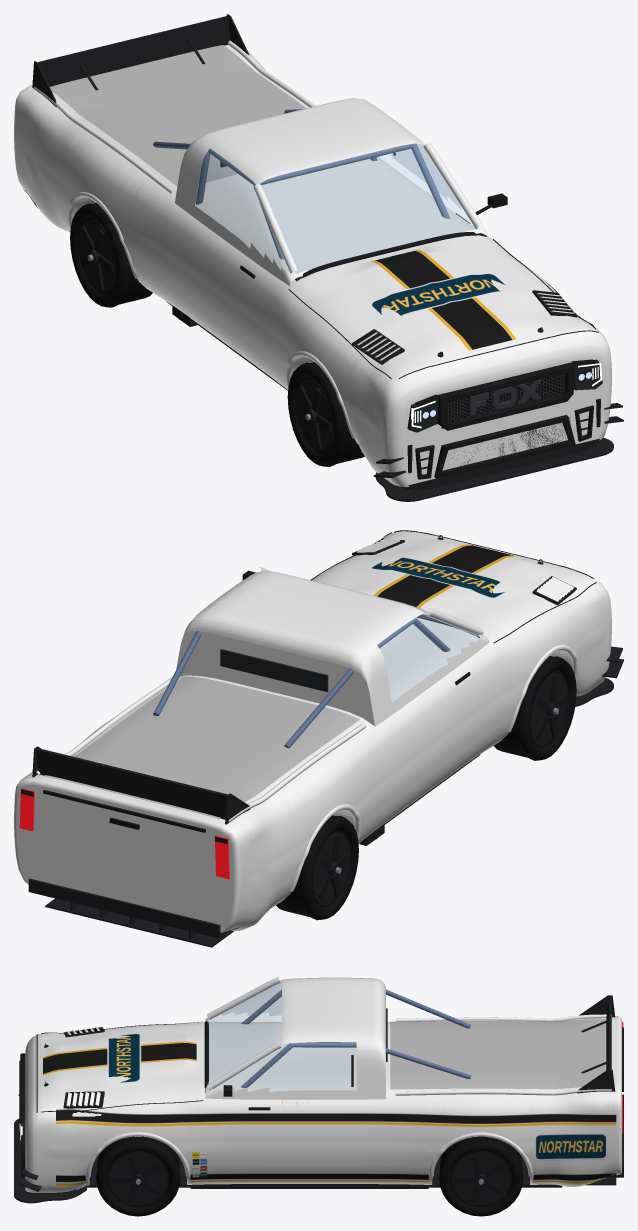
File: truck_pace.glb
3 views of the same model, one above another, from view 1: azimuth 30°, elevation 25°; view 2: azimuth 150°, elevation 25°; view 3: azimuth 270°, elevation 25° (orthographic). The views are drawn at different scales.
Visible parts, largest first — view 1: Body, Cab, BedFloor, FOX_Race_Truck, SpoilerBlade, Wheel_RR, Wheel_FR, GrilleSurround, Splitter, LowerIntakeSurround, APillar (×2), FrontValance (+4 smaller); view 2: Body, Cab, BedFloor, Wheel_FR, Wheel_RR, FOX_Race_Truck, SpoilerBlade, RearBumper, RearWindow, DiffuserPlate, BedRail (×2), FenderLip (×2) (+2 smaller); view 3: Body, Cab, FOX_Race_Truck, BedFloor, Wheel_FL, Wheel_RL, BedRail (×2), FenderLip (×2), SideSkirt, Splitter, APillar (×2), CageRearStay (×2) (+6 smaller).
Boxes of the visible parts, bbox=[...] form: Body: bbox=[14, 45, 611, 490]; Cab: bbox=[175, 98, 487, 285]; BedFloor: bbox=[50, 45, 305, 185]; FOX_Race_Truck: bbox=[23, 189, 593, 452]; SpoilerBlade: bbox=[37, 16, 229, 86]; Wheel_RR: bbox=[70, 203, 152, 307]; Wheel_FR: bbox=[287, 362, 364, 466]; GrilleSurround: bbox=[437, 362, 574, 430]; Splitter: bbox=[375, 438, 613, 501]; LowerIntakeSurround: bbox=[434, 415, 575, 478]; APillar (×2): bbox=[253, 142, 482, 273]; FrontValance: bbox=[408, 438, 599, 490]; Body: bbox=[14, 531, 611, 932]; Cab: bbox=[176, 571, 489, 726]; BedFloor: bbox=[44, 676, 359, 819]; Wheel_FR: bbox=[493, 656, 576, 760]; Wheel_RR: bbox=[276, 815, 358, 920]; FOX_Race_Truck: bbox=[226, 539, 515, 931]; SpoilerBlade: bbox=[36, 748, 227, 819]; RearBumper: bbox=[28, 878, 225, 938]; RearWindow: bbox=[220, 649, 328, 691]; DiffuserPlate: bbox=[45, 898, 234, 947]; BedRail (×2): bbox=[36, 677, 366, 822]; FenderLip (×2): bbox=[290, 644, 578, 891]; Body: bbox=[25, 1016, 621, 1193]; Cab: bbox=[205, 977, 385, 1099]; FOX_Race_Truck: bbox=[43, 1033, 616, 1185]; BedFloor: bbox=[390, 1019, 611, 1089]; Wheel_FL: bbox=[96, 1136, 180, 1216]; Wheel_RL: bbox=[439, 1136, 523, 1216]; BedRail (×2): bbox=[395, 1014, 611, 1095]; FenderLip (×2): bbox=[86, 1132, 533, 1177]; SideSkirt: bbox=[190, 1184, 428, 1188]; Splitter: bbox=[14, 1119, 86, 1203]; APillar (×2): bbox=[207, 976, 280, 1090]; CageRearStay (×2): bbox=[386, 989, 471, 1078].
Size of the model in its own units: 2.1 by 1.67 by 5.53.
Materials: 23 (5 with a texture image).
